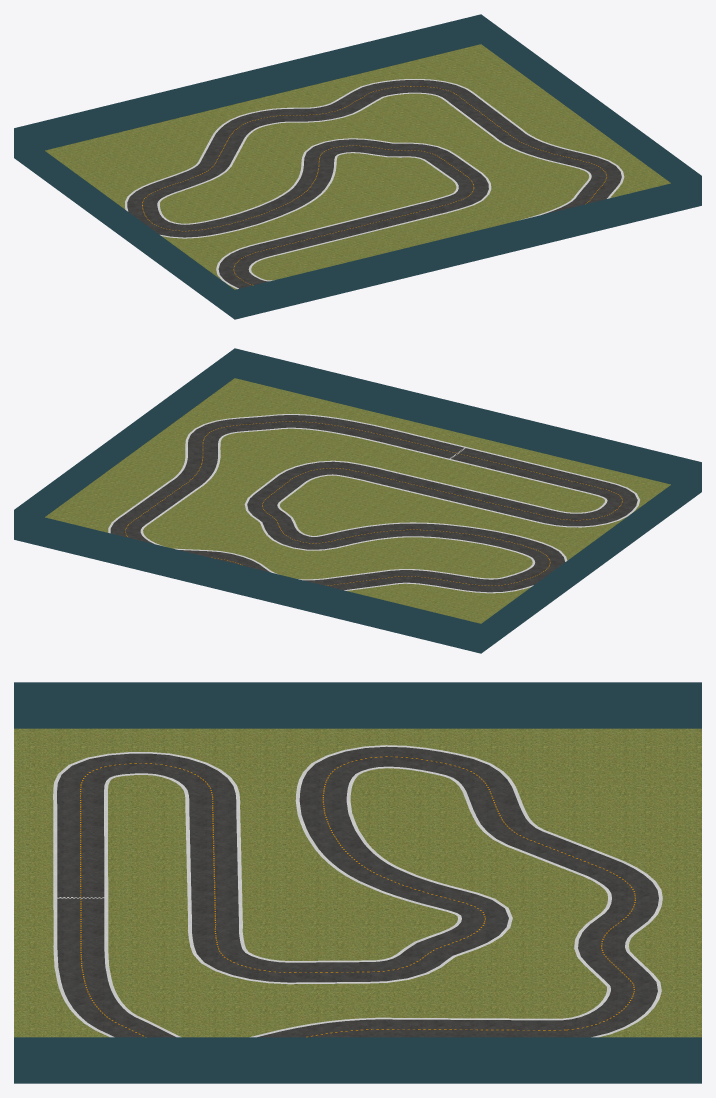
The model's file is 2022_may_pro_cw.dae.
3 views of the same model, one above another, from view 1: azimuth 30°, elevation 25°; view 2: azimuth 150°, elevation 25°; view 3: azimuth 270°, elevation 25° (orthographic). The views are drawn at different scales.
Parts seen in each view (by area): view 1: field, wall, road, ol, il, cl; view 2: field, wall, road, ol, il, cl; view 3: field, wall, road, ol, il, cl.
Boxes of the visible parts, bbox=[...] form: field: bbox=[45, 44, 670, 289]; wall: bbox=[14, 14, 701, 319]; road: bbox=[127, 80, 621, 288]; ol: bbox=[157, 92, 591, 281]; il: bbox=[125, 79, 624, 289]; cl: bbox=[142, 86, 606, 285]; field: bbox=[45, 378, 670, 623]; wall: bbox=[14, 348, 701, 653]; road: bbox=[110, 415, 637, 592]; ol: bbox=[140, 427, 607, 580]; il: bbox=[108, 414, 639, 593]; cl: bbox=[125, 421, 622, 585]; field: bbox=[14, 728, 701, 1037]; wall: bbox=[14, 682, 701, 1083]; road: bbox=[57, 746, 658, 1037]; ol: bbox=[104, 766, 611, 1037]; il: bbox=[53, 745, 662, 1037]; cl: bbox=[80, 756, 635, 1037].
Size of the model in its own units: 16.38 by 13.41 by 1.
Materials: 7 (7 with a texture image).
